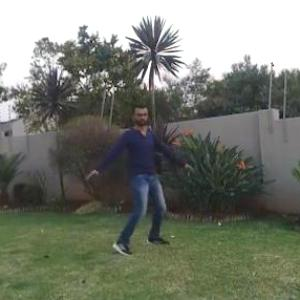land: (69, 75, 193, 278)
